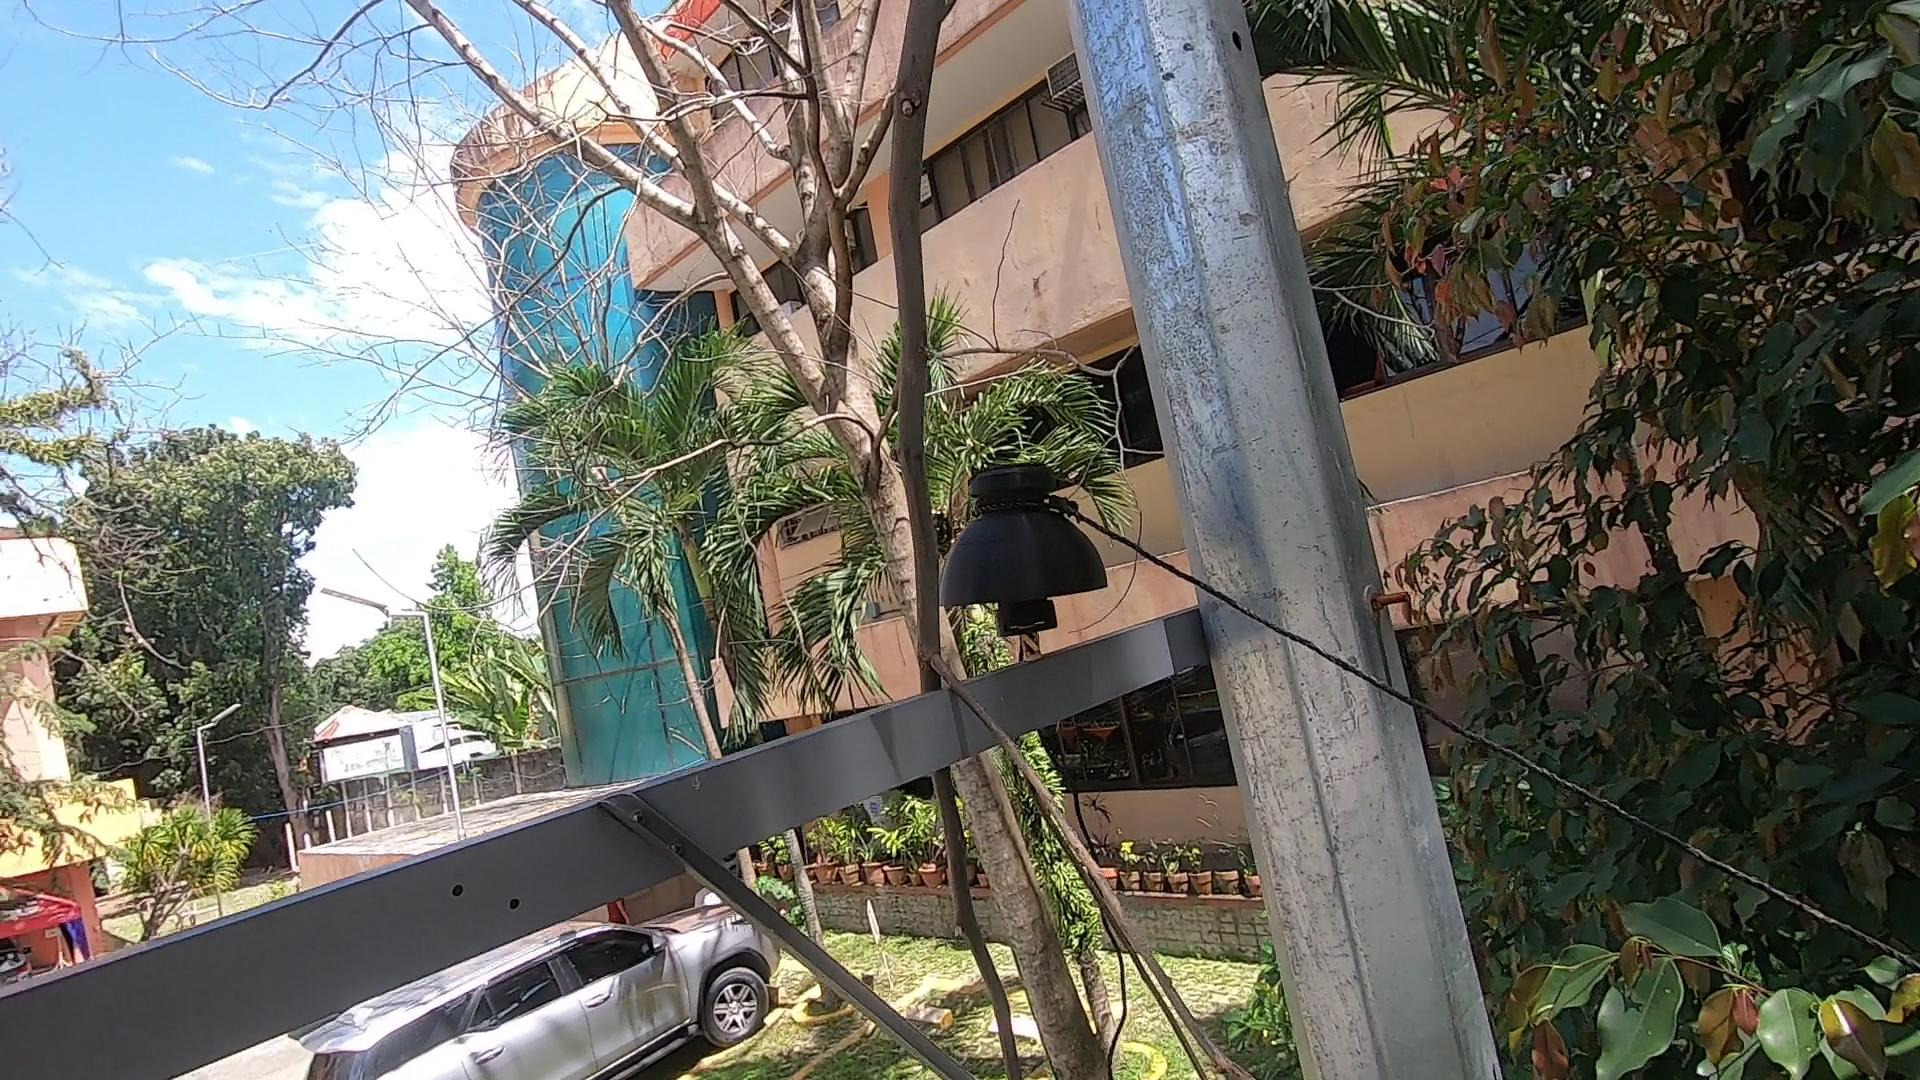tree branch: (820, 9, 1278, 1080)
